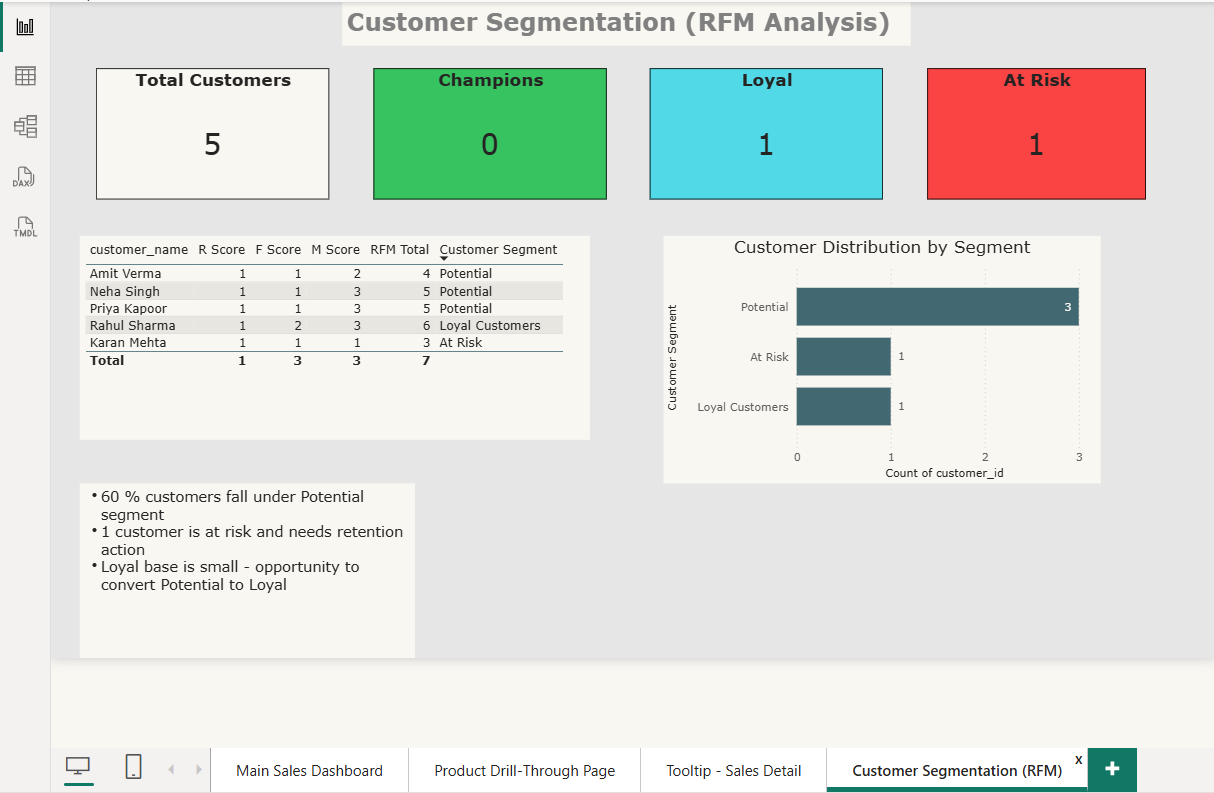

The dashboard page shown, as its layout file describes it:
{"tool":"powerbi","page":{"name":"Customer Segmentation (RFM)","canvas":[1280,720],"ordinal":3},"visuals":[{"type":"card","title":"Total Customers","fields":{"Values":["Count(customers.customer_id)"]},"box":[49.6,72.2,256,144],"z":0},{"type":"tableEx","fields":{"Values":["customers.customer_name","customers.R Score","customers.F Score","customers.M Score","customers.RFM Total","customers.Customer Segment"]},"box":[32,256,560,224],"z":1000},{"type":"clusteredBarChart","title":"Customer Distribution by Segment","fields":{"Y":["CountNonNull(customers.customer_id)"],"Category":["customers.Customer Segment"]},"box":[672,256,480,272],"z":2000},{"type":"textbox","box":[320,0,624,48],"z":3000},{"type":"textbox","box":[32,528,368,192],"z":4000},{"type":"card","title":"Champions","fields":{"Values":["customers.Champions Count"]},"box":[353.6,72.2,256,144],"z":5000},{"type":"card","title":"Loyal","fields":{"Values":["customers.Loyal Count"]},"box":[657.6,72.2,256,144],"z":6000},{"type":"card","title":"At Risk","fields":{"Values":["customers.At Risk Count"]},"box":[961.6,72.2,240,144],"z":7000}]}

Visuals, with their boxes on the page's 1280x720 design canvas (x1, y1, x2, y2). These are canvas units, not pixel positions in the 1214x793 screenshot, which may show the page scaled, cropped or inside an application window:
"Total Customers" card: box(50, 72, 306, 216)
tableEx - customers.customer_name x customers.R Score: box(32, 256, 592, 480)
"Customer Distribution by Segment" clusteredBarChart: box(672, 256, 1152, 528)
textbox: box(320, 0, 944, 48)
textbox: box(32, 528, 400, 720)
"Champions" card: box(354, 72, 610, 216)
"Loyal" card: box(658, 72, 914, 216)
"At Risk" card: box(962, 72, 1202, 216)
